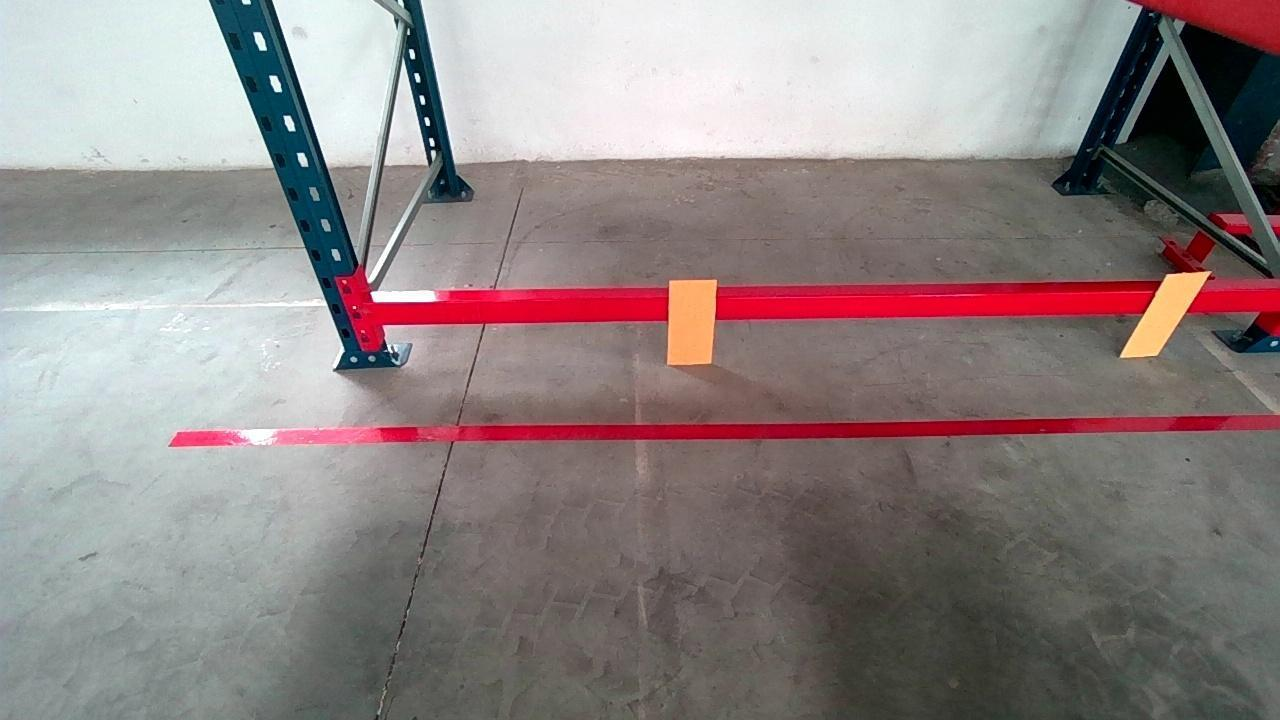h_rack: (374, 276, 1278, 322)
orange_strip: (1121, 273, 1208, 355), (668, 278, 717, 364)
red_line: (188, 407, 1277, 449)
